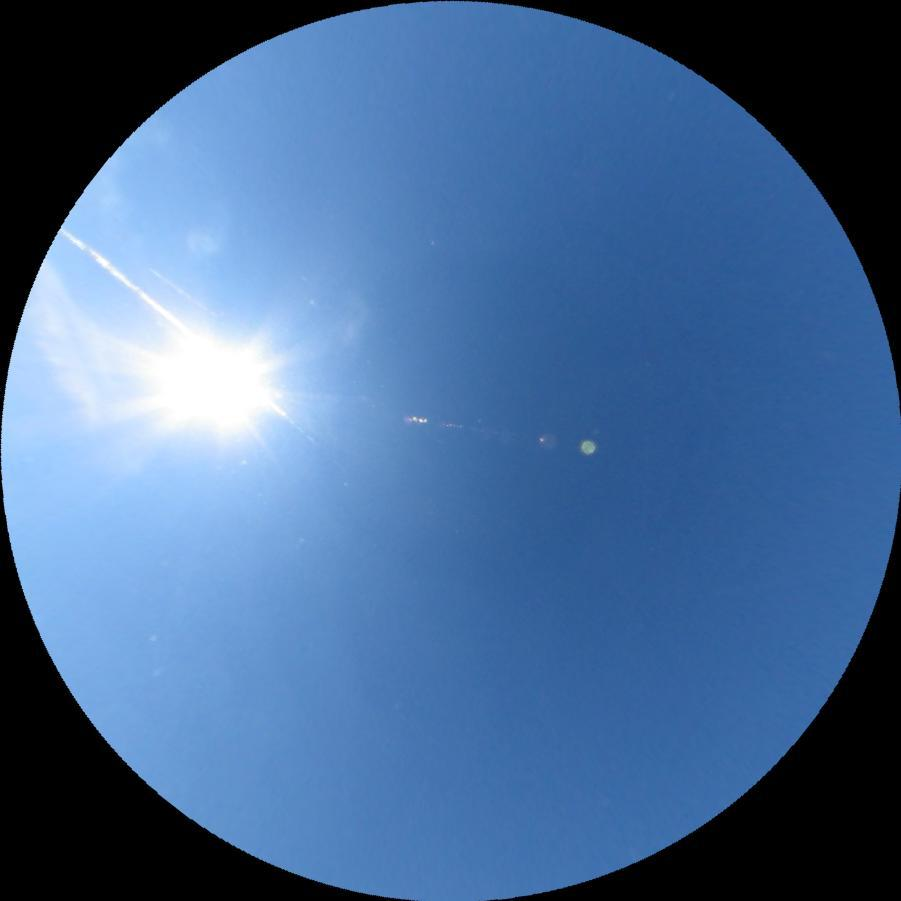parasite: (57, 225, 320, 444), (148, 267, 218, 318)
sun: (138, 321, 295, 445)
